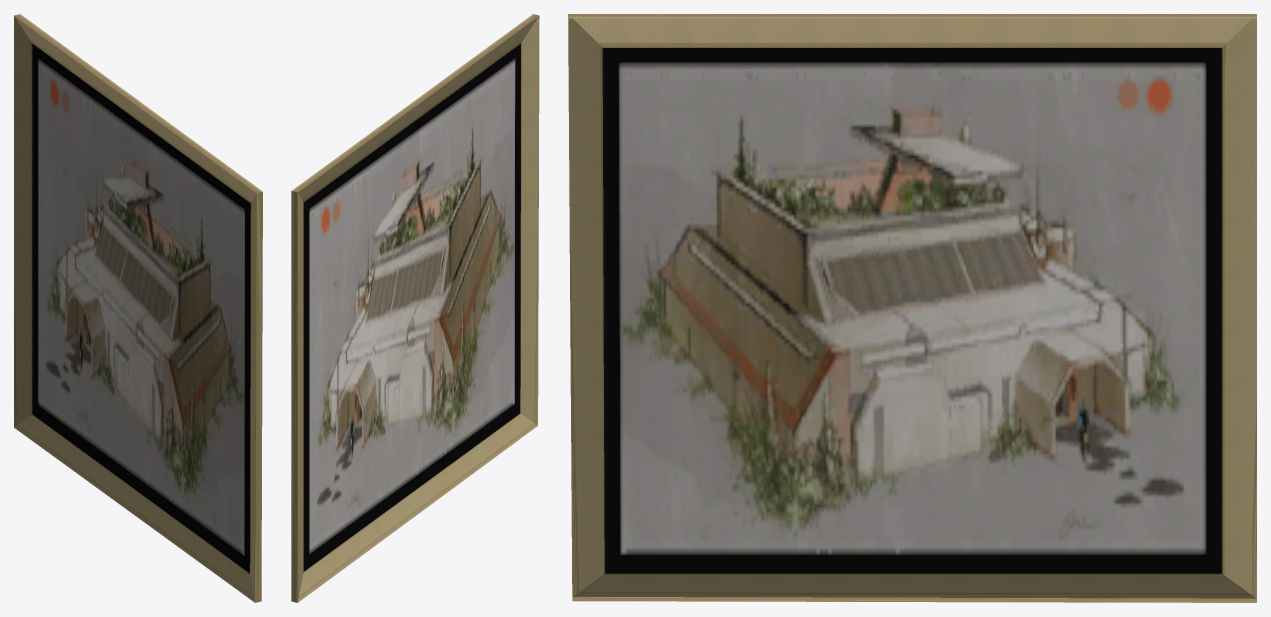
Rendered from frn_all_painting_player_house.fbx.
The picture shows the model from 3 angles, left to right: view 1: azimuth 30°, elevation 25°; view 2: azimuth 150°, elevation 25°; view 3: azimuth 270°, elevation 25°; orthographic projection. The views are drawn at different scales.
Visible parts, largest first — view 1: mesh_node; view 2: mesh_node; view 3: mesh_node.
Boxes of the visible parts, x1,y1,x2,y2 form: mesh_node: (14, 14, 262, 602); mesh_node: (291, 14, 539, 602); mesh_node: (568, 14, 1256, 602).
Size of the model in its own units: 0.021 by 1.32 by 1.41.
